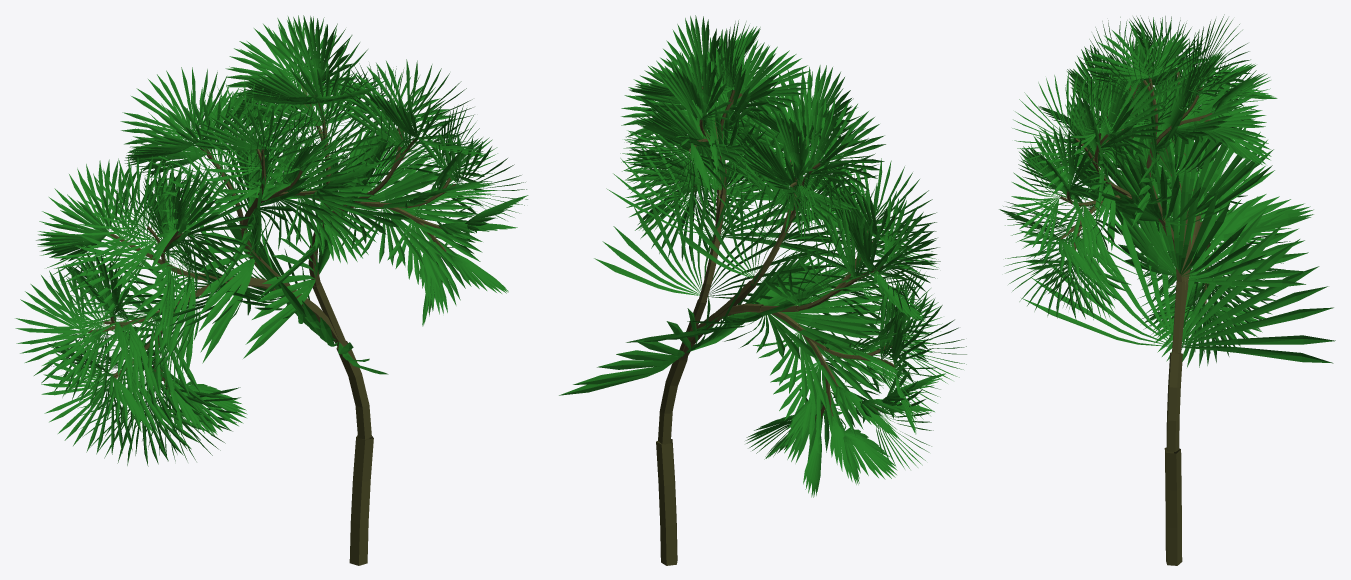
The model's file is plants3.obj.
The picture shows the model from 3 angles, left to right: view 1: azimuth 30°, elevation 25°; view 2: azimuth 150°, elevation 25°; view 3: azimuth 270°, elevation 25°; orthographic projection. The views are drawn at different scales.
Visible parts, largest first — view 1: 1tree-lik; view 2: 1tree-lik; view 3: 1tree-lik.
Boxes of the visible parts, x1,y1,x2,y2 form: 1tree-lik: (15,15,528,565); 1tree-lik: (559,15,966,565); 1tree-lik: (999,14,1335,565).
Size of the model in its own units: 721 by 937 by 549.
